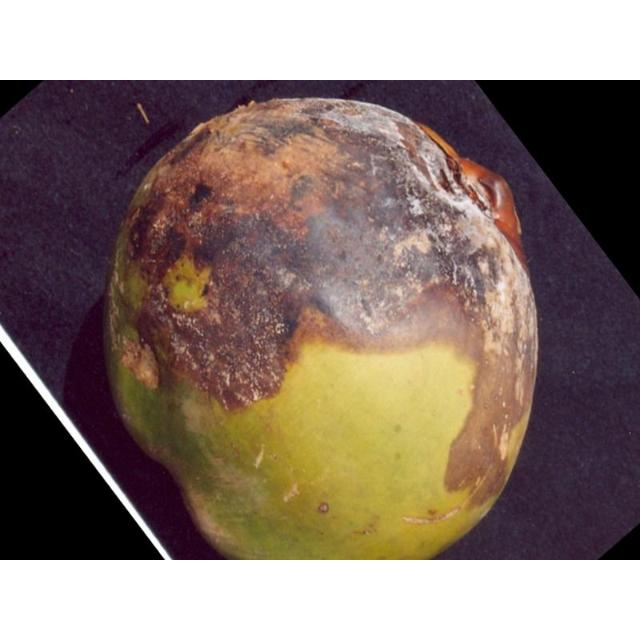damaged: (98, 97, 540, 559)
